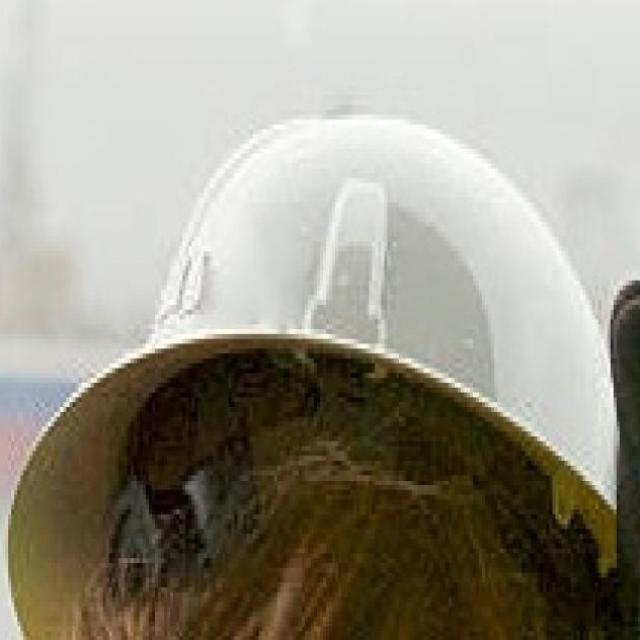helmet: (2, 117, 620, 629)
